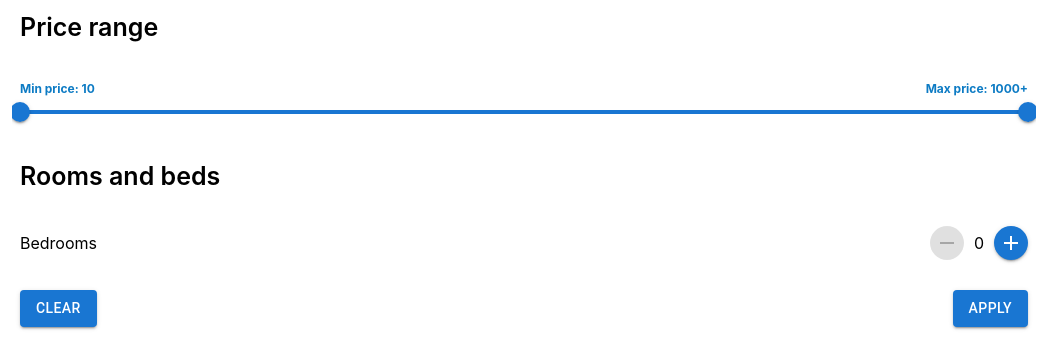
Test: Apartment filter component › has clear settings count bedrooms when click button clear
The width and height of the screenshot is (1048, 347).
Click the button named "add": (1011, 243) 994,226 -> 1028,260
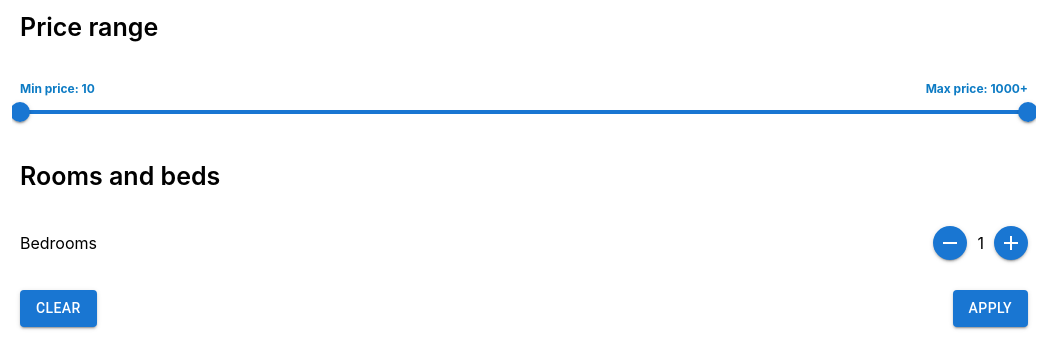
Click the button "Clear": (58, 308) 20,290 -> 97,326
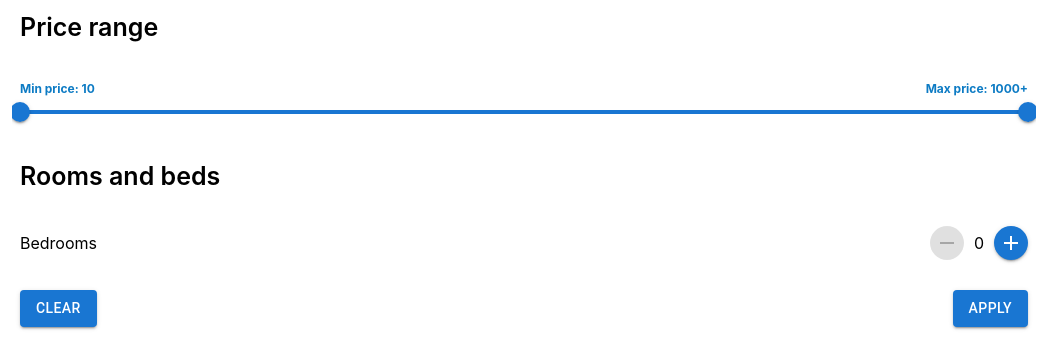
expect the text "0" is shown: met, box 974,233 -> 984,253
